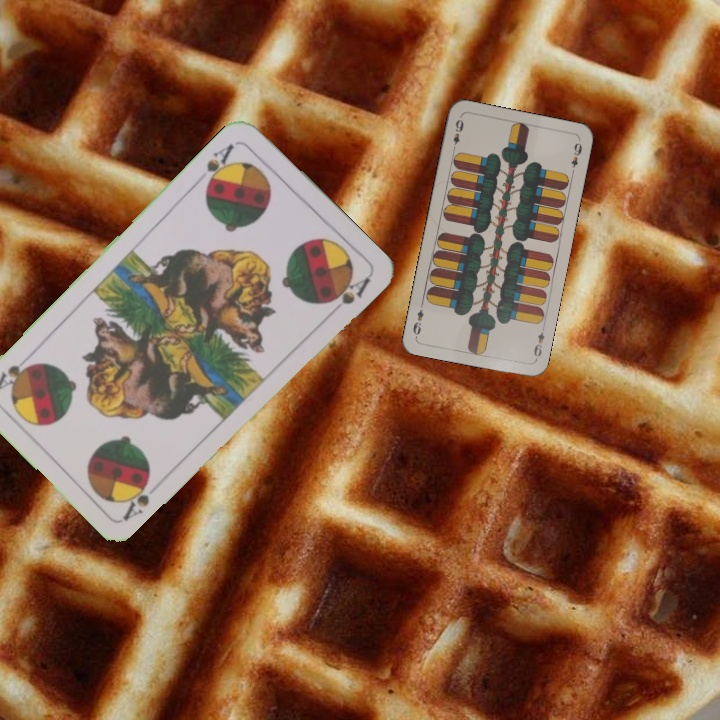E9: (530, 323, 547, 363), (449, 115, 466, 154)
SA: (201, 139, 237, 192), (118, 476, 153, 523)
